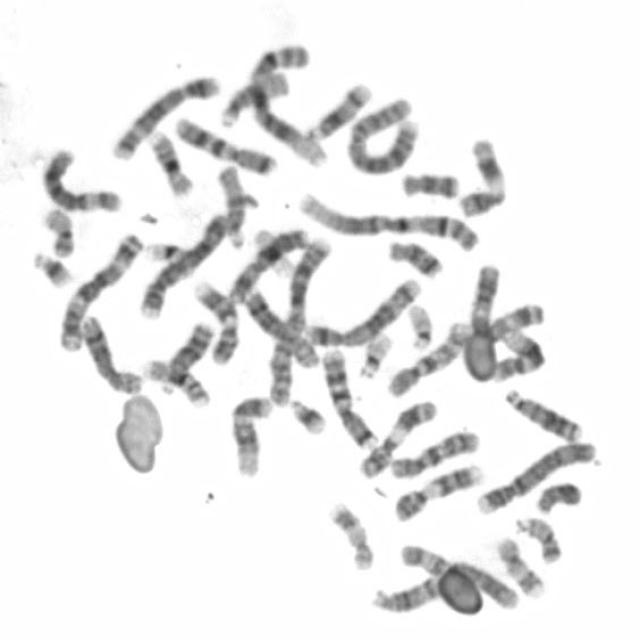A1: (294, 188, 481, 254), (244, 38, 328, 170)
A2: (264, 235, 332, 408), (342, 90, 421, 178)
A3: (54, 229, 146, 353), (455, 299, 546, 353)
B4: (136, 208, 234, 319), (471, 436, 599, 516)
B5: (108, 70, 221, 162), (302, 274, 423, 350)
C10: (382, 317, 472, 400), (386, 426, 480, 480)
C11: (354, 395, 438, 480), (454, 134, 508, 218)
C12: (227, 392, 275, 480), (489, 323, 546, 383)
C6: (395, 539, 518, 612), (38, 144, 124, 215)
C7: (170, 114, 277, 176), (319, 346, 379, 450)
C8: (241, 284, 321, 370), (76, 312, 143, 395)
C9: (389, 459, 485, 524), (190, 277, 240, 366)
D13: (501, 384, 584, 444), (157, 318, 216, 396)
D14: (300, 78, 374, 144), (370, 573, 442, 613)
D15: (216, 67, 290, 130), (215, 161, 248, 250)
E16: (140, 354, 211, 407), (144, 126, 195, 198)
E17: (326, 496, 376, 573), (492, 533, 546, 601)
E18: (384, 236, 446, 280), (397, 168, 462, 201)
F19: (252, 228, 297, 282), (143, 237, 187, 265)
F20: (515, 516, 564, 566), (39, 204, 77, 258)
G21: (27, 249, 75, 289), (285, 394, 328, 436)
G22: (353, 330, 395, 380), (404, 301, 436, 351)
X: (223, 223, 311, 305)
Y: (531, 477, 583, 516)
